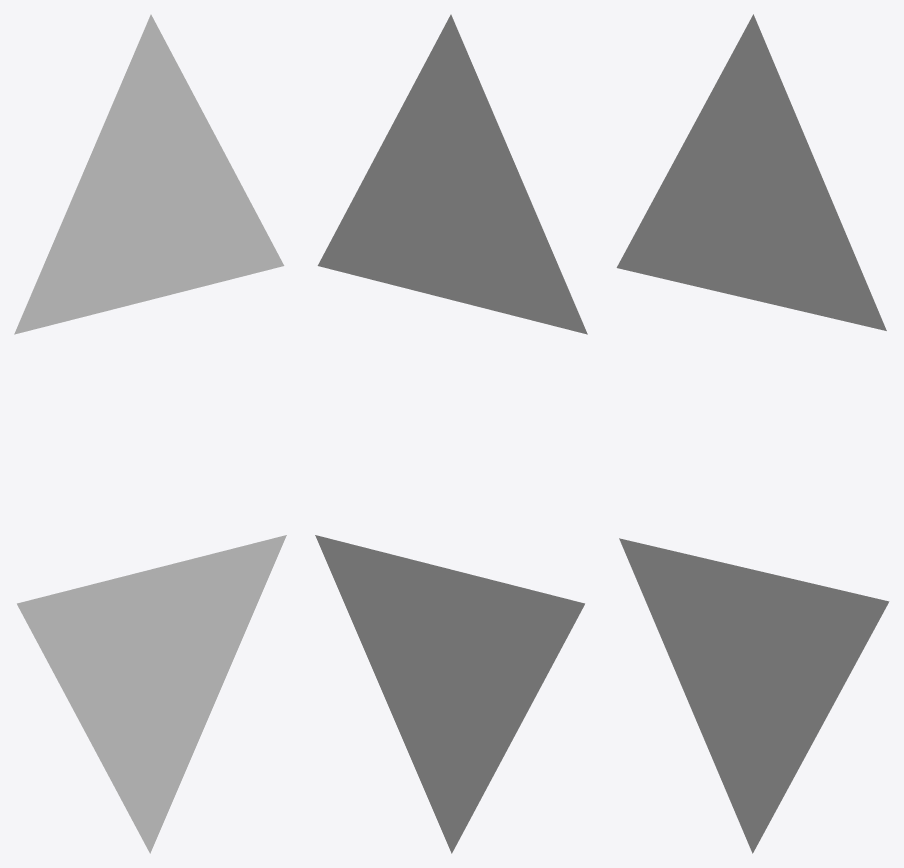
File: Lift_UpDown.fbx
3 views of the same model, side by side, from view 1: azimuth 30°, elevation 25°; view 2: azimuth 150°, elevation 25°; view 3: azimuth 330°, elevation 25° (orthographic).
Visible parts, largest first — view 1: Lift_UpDown; view 2: Lift_UpDown; view 3: Lift_UpDown.
Boxes of the visible parts, x1,y1,x2,y2 form: Lift_UpDown: (14,14,286,853); Lift_UpDown: (315,14,587,853); Lift_UpDown: (616,14,889,853).
Bounding box in the file's own units: 144 × 423 × 0.
